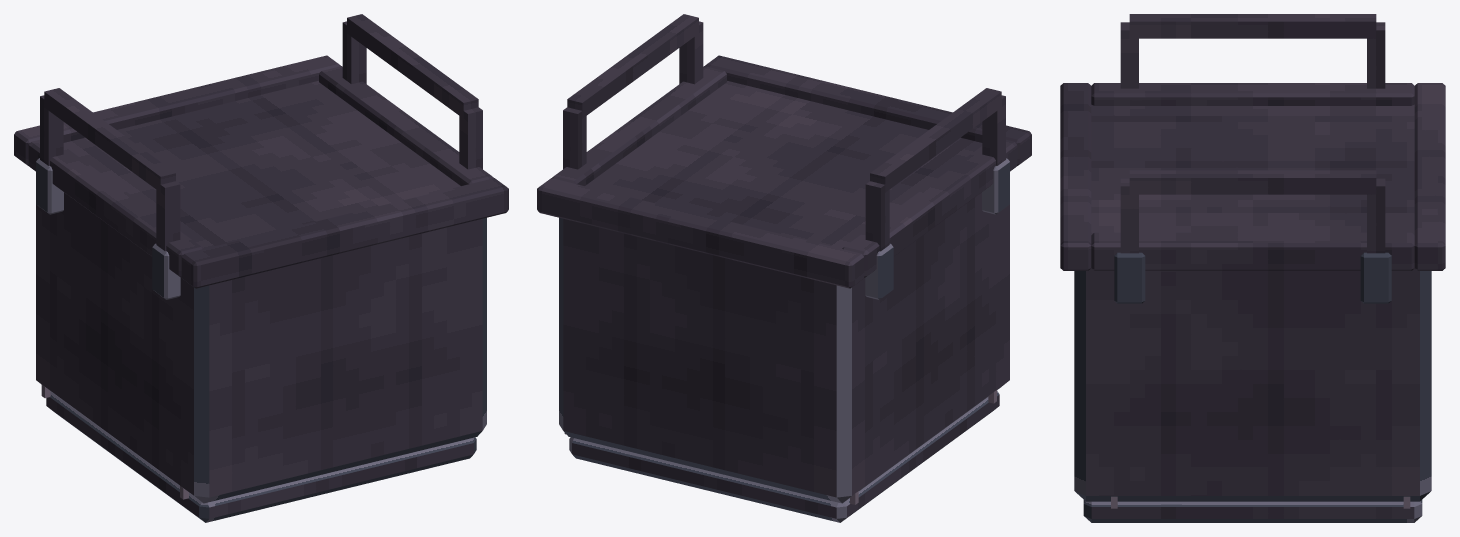
The model's file is placed_fabric_pot.obj.
3 views of the same model, side by side, from view 1: azimuth 30°, elevation 25°; view 2: azimuth 150°, elevation 25°; view 3: azimuth 270°, elevation 25° (orthographic). The views are drawn at different scales.
Visible parts, largest first — view 1: model; view 2: model; view 3: model.
Part boxes in pixels (x1=…): model: x1=14, y1=14, x2=508, y2=522; model: x1=537, y1=14, x2=1031, y2=522; model: x1=1060, y1=14, x2=1445, y2=522.
Size of the model in its own units: 0.8 by 0.8031 by 0.7812.
